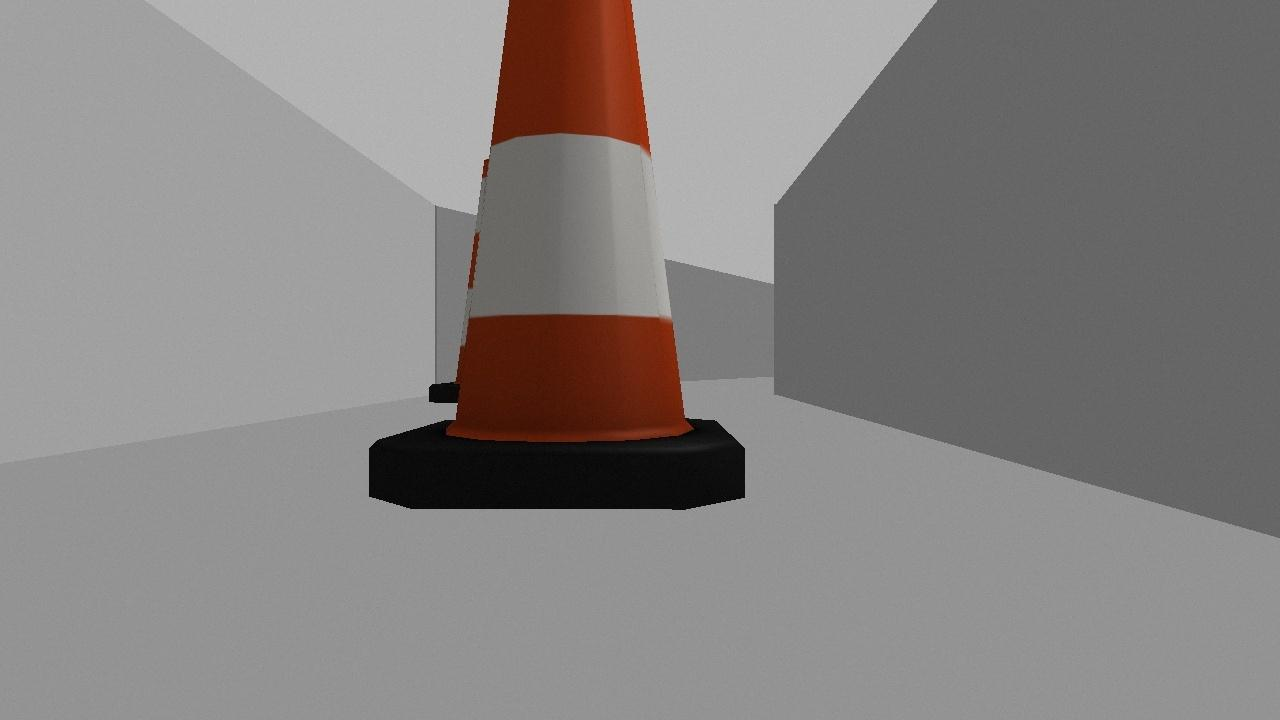cone_barrel: (324, 0, 768, 525)
